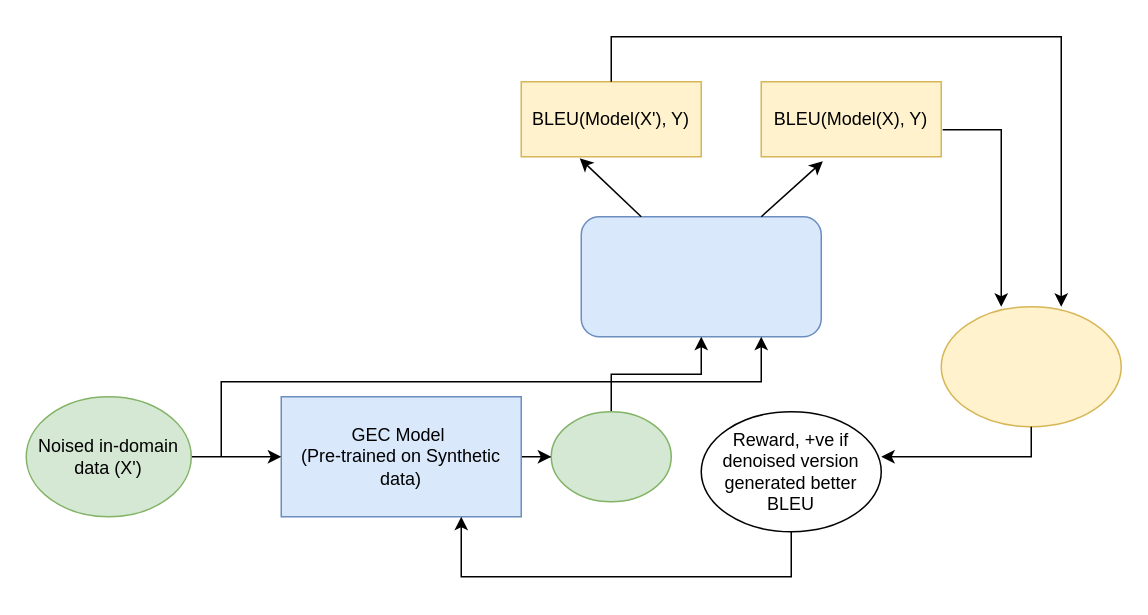
Some shapes in this 1148 by 615 pixel diagram are drawn without their labels. The shapes that lost their labels are listed below. From the top down, each one's centre as x and y in pixels, then its label:
At (x=700, y=276): "NMT model (En-Hi) Pre-trained on General -> Domain data".
At (x=1030, y=366): "BLEU difference, Noised - Denoised".
At (x=610, y=456): "Denoised (X)".
